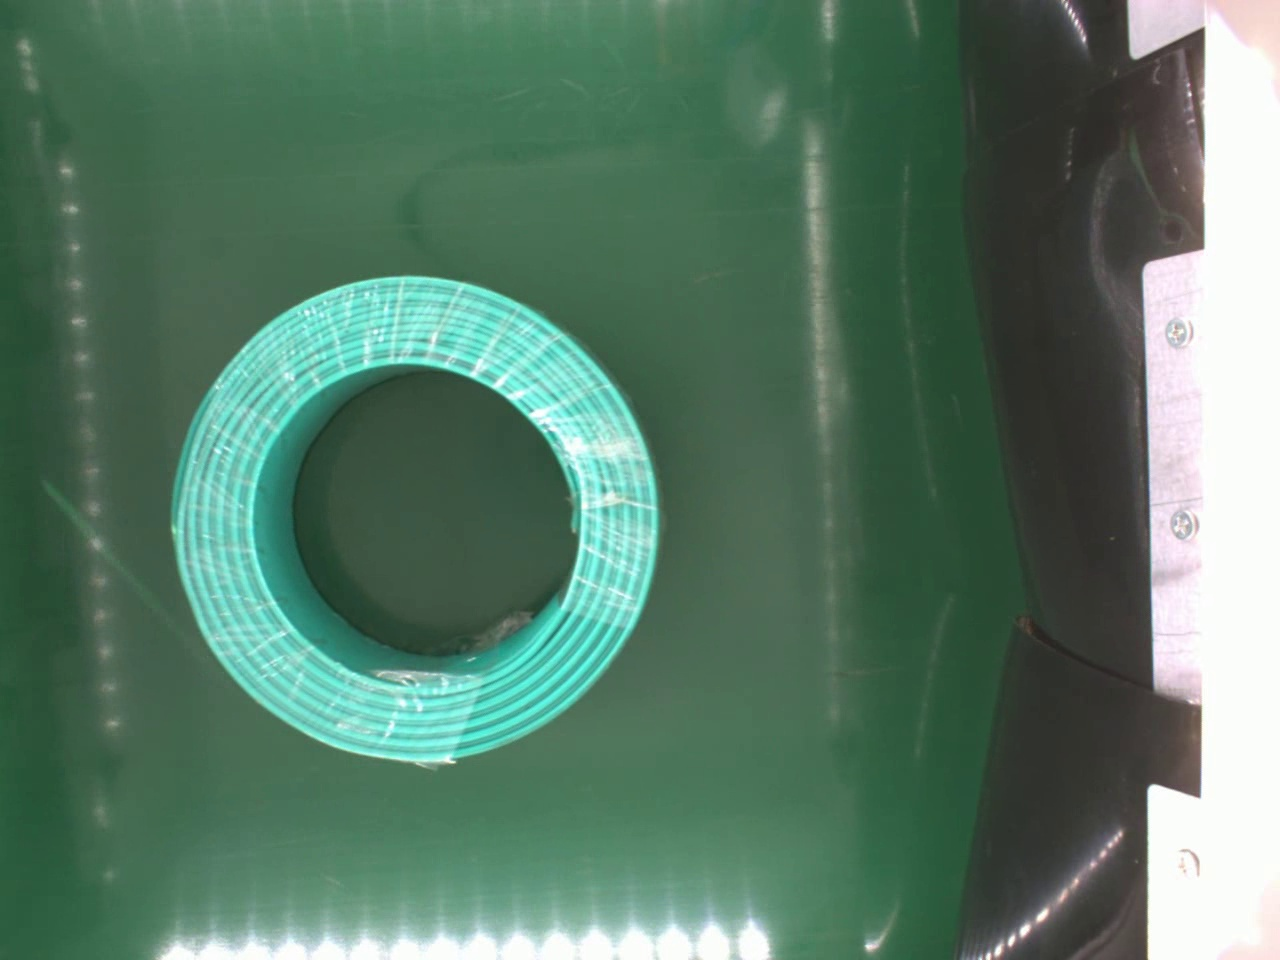green: (171, 272, 662, 767)
